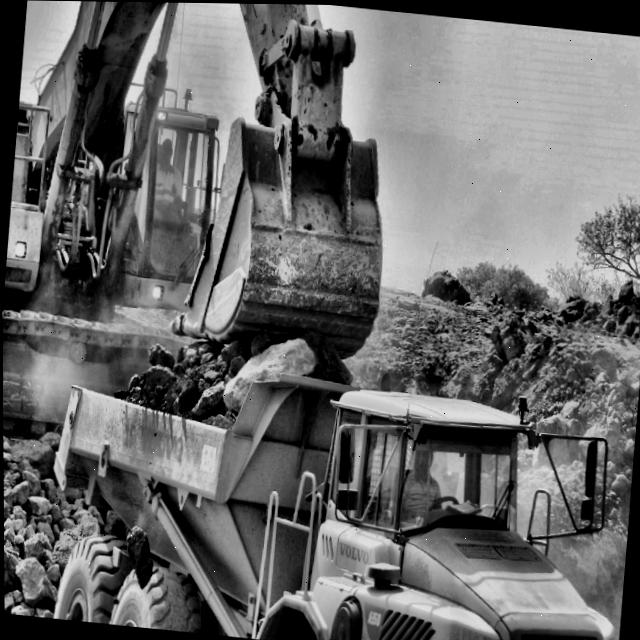dump_truck: (30, 320, 640, 640)
excavator: (0, 0, 491, 502)
